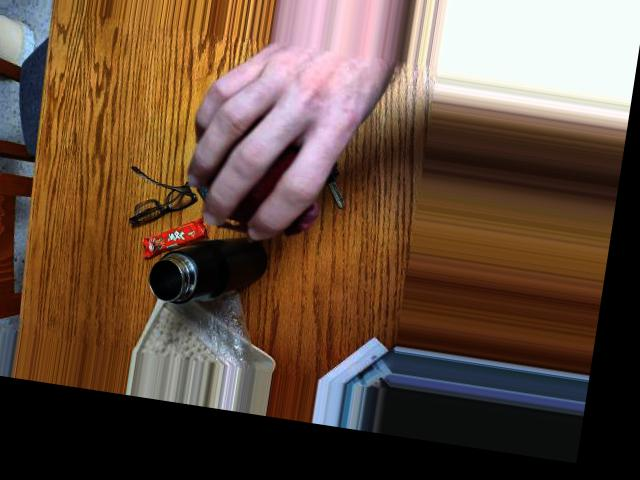onion: (188, 109, 333, 222)
